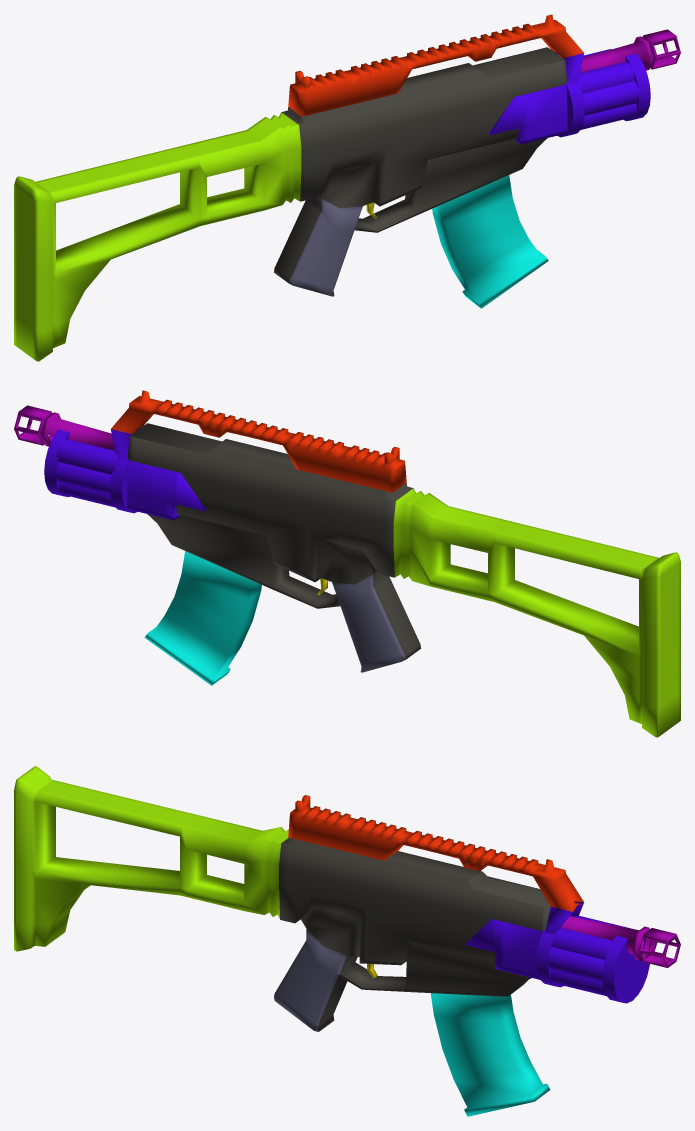
Rendered from grenade.fbx.
3 views of the same model, one above another, from view 1: azimuth 30°, elevation 25°; view 2: azimuth 150°, elevation 25°; view 3: azimuth 330°, elevation 25° (orthographic).
Parts seen in each view (by area): view 1: Gun_UVd:ZBrushPolyMesh3D, pasted__pasted__pCylinder2 (×2), pasted__pCylinder2, pasted__pCylinder3, pCylinder3; view 2: Gun_UVd:ZBrushPolyMesh3D, pasted__pCylinder2, pCylinder2, pCylinder3, pasted__pCylinder3, pasted__pasted__pCylinder2; view 3: Gun_UVd:ZBrushPolyMesh3D, pasted__pCylinder3, pasted__pasted__pCylinder2 (×2), pasted__pCylinder2, pCylinder3.
Boxes of the visible parts, <box> form: Gun_UVd:ZBrushPolyMesh3D: <box>14,14,680,361</box>; pasted__pasted__pCylinder2 (×2): <box>578,61,636,129</box>; pasted__pCylinder2: <box>582,81,642,115</box>; pasted__pCylinder3: <box>623,53,650,121</box>; pCylinder3: <box>557,79,584,137</box>; Gun_UVd:ZBrushPolyMesh3D: <box>14,390,680,737</box>; pasted__pCylinder2: <box>56,439,119,474</box>; pCylinder2: <box>56,462,111,494</box>; pCylinder3: <box>110,455,137,513</box>; pasted__pCylinder3: <box>44,429,69,497</box>; pasted__pasted__pCylinder2: <box>57,482,115,507</box>; Gun_UVd:ZBrushPolyMesh3D: <box>14,766,680,1116</box>; pasted__pCylinder3: <box>602,935,649,1003</box>; pasted__pasted__pCylinder2 (×2): <box>550,928,612,995</box>; pasted__pCylinder2: <box>547,947,606,981</box>; pCylinder3: <box>536,915,575,987</box>.
Size of the model in its own units: 11.16 by 4.46 by 1.1.
